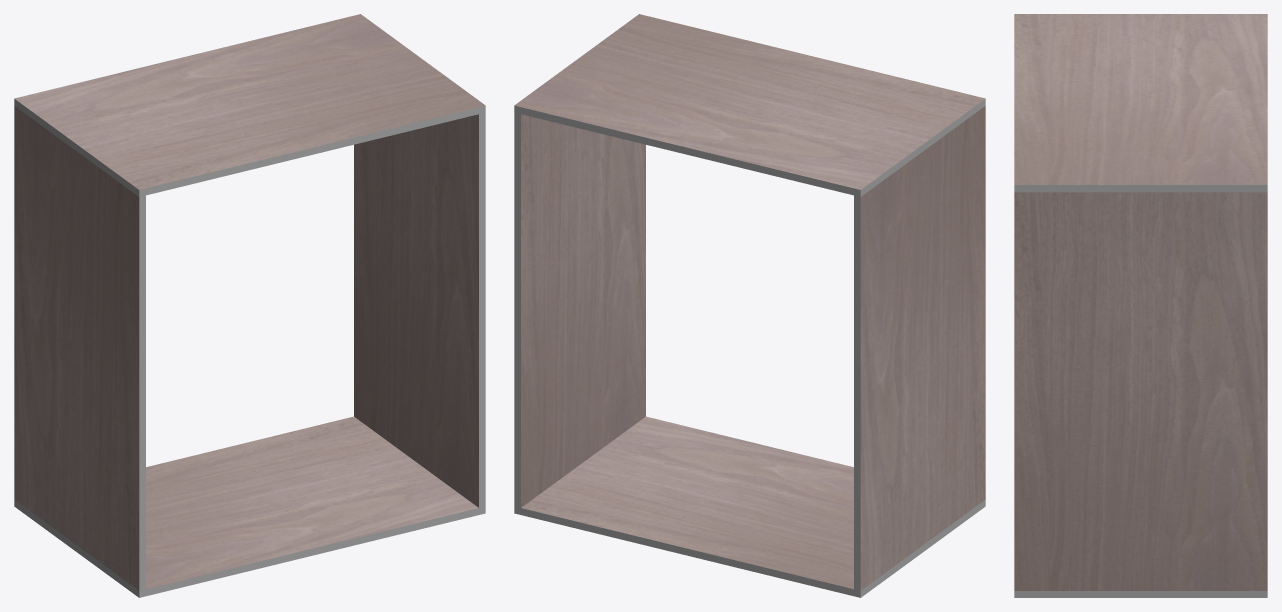
Rendered from dolap.glb.
3 views of the same model, side by side, from view 1: azimuth 30°, elevation 25°; view 2: azimuth 150°, elevation 25°; view 3: azimuth 270°, elevation 25° (orthographic).
Parts seen in each view (by area): view 1: SOL PANEL_DUZ_TEST_1_3-1 - Parça 2, ÜST PANEL_DUZ_TEST_1_1-1 - Parça 2, SAĞ PANEL_DUZ_TEST_1_1-1 - Parça 3, ALT PANEL_DUZ_TEST_1_1-1 - Parça 3, ÜST PANEL_DUZ_TEST_1_1-1 - Parça, ALT PANEL_DUZ_TEST_1_1-1 - Parça, SAĞ PANEL_DUZ_TEST_1_1-1 - Parça, SOL PANEL_DUZ_TEST_1_3-1 - Parça; view 2: SOL PANEL_DUZ_TEST_1_3-1 - Parça 2, ÜST PANEL_DUZ_TEST_1_1-1 - Parça 2, SAĞ PANEL_DUZ_TEST_1_1-1 - Parça 3, ALT PANEL_DUZ_TEST_1_1-1 - Parça 3, ÜST PANEL_DUZ_TEST_1_1-1 - Parça, ALT PANEL_DUZ_TEST_1_1-1 - Parça, SAĞ PANEL_DUZ_TEST_1_1-1 - Parça, SOL PANEL_DUZ_TEST_1_3-1 - Parça; view 3: SAĞ PANEL_DUZ_TEST_1_1-1 - Parça 2, ÜST PANEL_DUZ_TEST_1_1-1 - Parça 2, ÜST PANEL_DUZ_TEST_1_1-1 - Parça, ALT PANEL_DUZ_TEST_1_1-1 - Parça.
Part boxes in pixels (left/top/right/bottom): SOL PANEL_DUZ_TEST_1_3-1 - Parça 2: left=14, top=106, right=139, bottom=590; ÜST PANEL_DUZ_TEST_1_1-1 - Parça 2: left=14, top=14, right=485, bottom=189; SAĞ PANEL_DUZ_TEST_1_1-1 - Parça 3: left=354, top=114, right=478, bottom=507; ALT PANEL_DUZ_TEST_1_1-1 - Parça 3: left=146, top=416, right=478, bottom=588; ÜST PANEL_DUZ_TEST_1_1-1 - Parça: left=14, top=99, right=485, bottom=196; ALT PANEL_DUZ_TEST_1_1-1 - Parça: left=14, top=500, right=485, bottom=597; SAĞ PANEL_DUZ_TEST_1_1-1 - Parça: left=479, top=112, right=485, bottom=507; SOL PANEL_DUZ_TEST_1_3-1 - Parça: left=139, top=195, right=145, bottom=590; SOL PANEL_DUZ_TEST_1_3-1 - Parça 2: left=860, top=106, right=985, bottom=590; ÜST PANEL_DUZ_TEST_1_1-1 - Parça 2: left=514, top=14, right=985, bottom=189; SAĞ PANEL_DUZ_TEST_1_1-1 - Parça 3: left=521, top=114, right=645, bottom=507; ALT PANEL_DUZ_TEST_1_1-1 - Parça 3: left=521, top=416, right=853, bottom=588; ÜST PANEL_DUZ_TEST_1_1-1 - Parça: left=514, top=99, right=985, bottom=196; ALT PANEL_DUZ_TEST_1_1-1 - Parça: left=514, top=500, right=985, bottom=597; SAĞ PANEL_DUZ_TEST_1_1-1 - Parça: left=514, top=112, right=520, bottom=507; SOL PANEL_DUZ_TEST_1_3-1 - Parça: left=854, top=195, right=860, bottom=590; SAĞ PANEL_DUZ_TEST_1_1-1 - Parça 2: left=1014, top=192, right=1267, bottom=590; ÜST PANEL_DUZ_TEST_1_1-1 - Parça 2: left=1014, top=14, right=1267, bottom=184; ÜST PANEL_DUZ_TEST_1_1-1 - Parça: left=1014, top=185, right=1267, bottom=192; ALT PANEL_DUZ_TEST_1_1-1 - Parça: left=1014, top=591, right=1267, bottom=597.
Bounding box in the file's own units: 0.8 × 0.9 × 0.5.
Materials: 9 (8 with a texture image).
